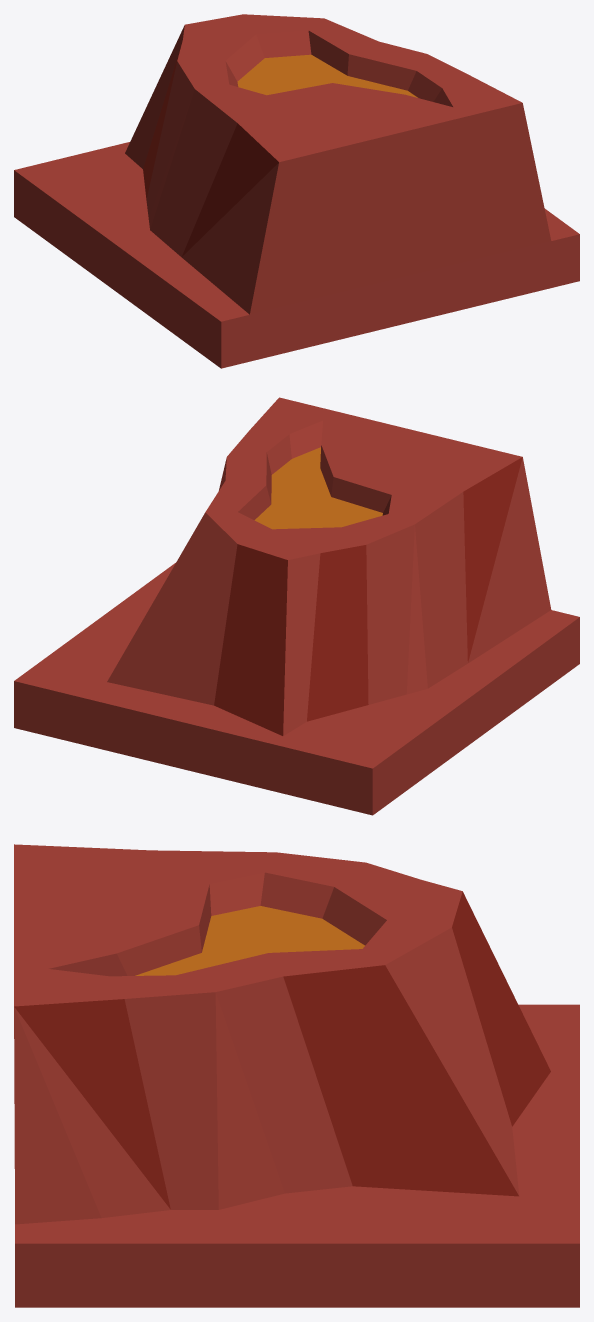
File: Field_10_digged.fbx
3 views of the same model, one above another, from view 1: azimuth 30°, elevation 25°; view 2: azimuth 150°, elevation 25°; view 3: azimuth 270°, elevation 25° (orthographic). The views are drawn at different scales.
Parts seen in each view (by area): view 1: Plane.024; view 2: Plane.024; view 3: Plane.024.
Boxes of the visible parts, x1=… form: Plane.024: x1=14, y1=14, x2=579, y2=368; Plane.024: x1=14, y1=397, x2=579, y2=815; Plane.024: x1=14, y1=844, x2=579, y2=1307.
Bounding box in the file's own units: 400 × 205 × 401.
